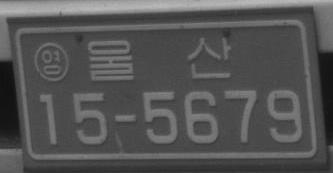-: (113, 111, 137, 126)
1: (33, 91, 68, 145)
5: (141, 89, 179, 145), (71, 90, 108, 145)
6: (182, 89, 219, 144)
7: (223, 88, 258, 143)
9: (265, 88, 302, 144)
영: (33, 40, 70, 81)
울산_D: (86, 36, 234, 81)
